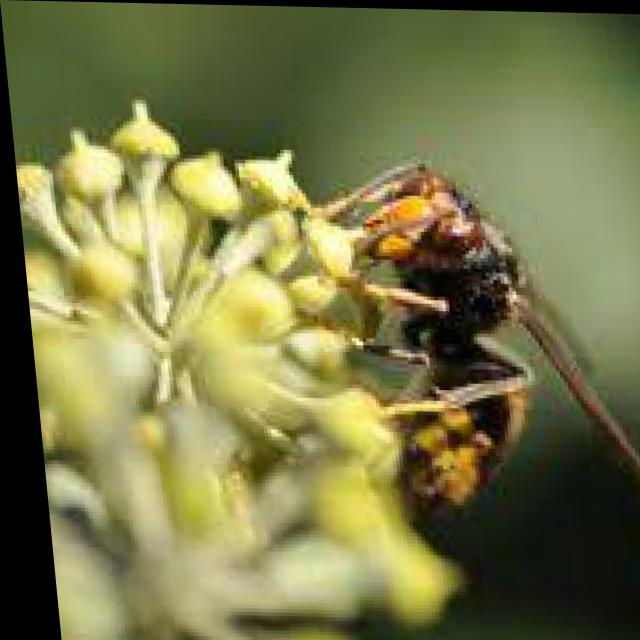Vespa Velutina: (272, 141, 639, 565)
